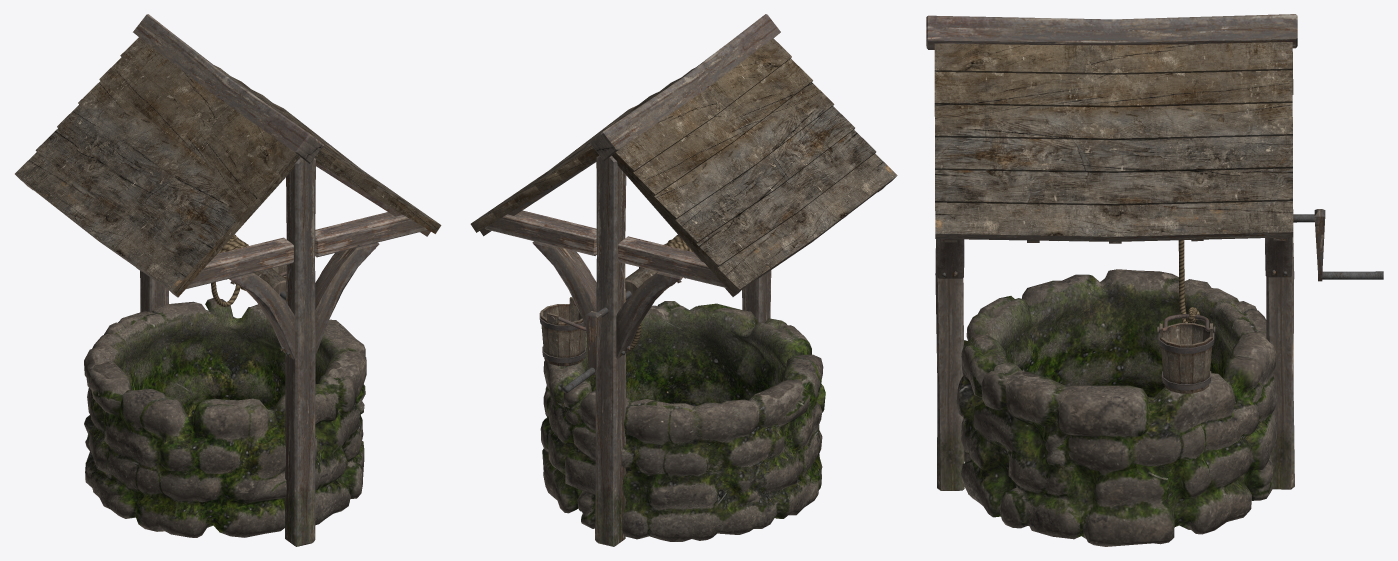
File: well.glb
3 views of the same model, side by side, from view 1: azimuth 30°, elevation 25°; view 2: azimuth 150°, elevation 25°; view 3: azimuth 270°, elevation 25° (orthographic). The views are drawn at different scales.
Parts seen in each view (by area): view 1: Well_LP; view 2: Well_LP; view 3: Well_LP.
Part boxes in pixels (bbox=[...]): Well_LP: bbox=[15, 14, 441, 546]; Well_LP: bbox=[470, 14, 897, 546]; Well_LP: bbox=[926, 14, 1383, 546].
Size of the model in its own units: 181 by 268 by 235.
Materials: 4 (4 with a texture image).
